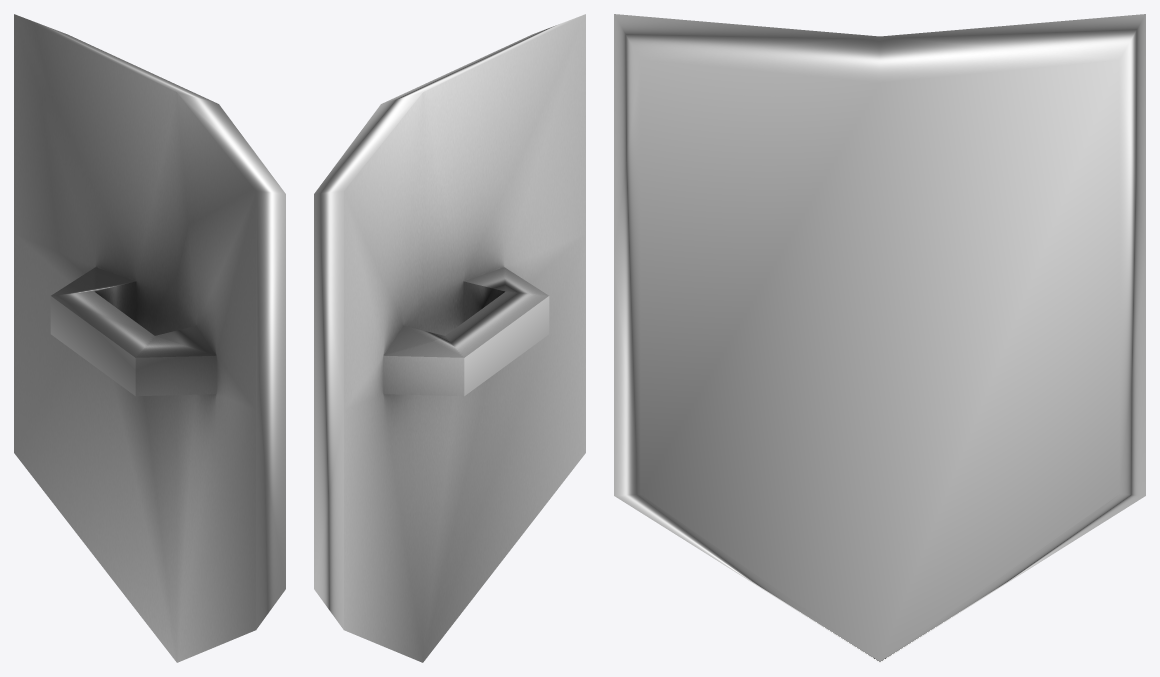
File: Shield.dae
3 renders of one model, left to right at view 1: azimuth 30°, elevation 25°; view 2: azimuth 150°, elevation 25°; view 3: azimuth 270°, elevation 25°, orthographic. The views are drawn at different scales.
Visible parts, largest first — view 1: Cube; view 2: Cube; view 3: Cube.
Boxes of the visible parts, x1,y1,x2,y2 form: Cube: (14,14,285,662); Cube: (314,14,585,662); Cube: (614,14,1145,662).
Size of the model in its own units: 0.6 by 2 by 2.6.
1 material, 1 textured.
